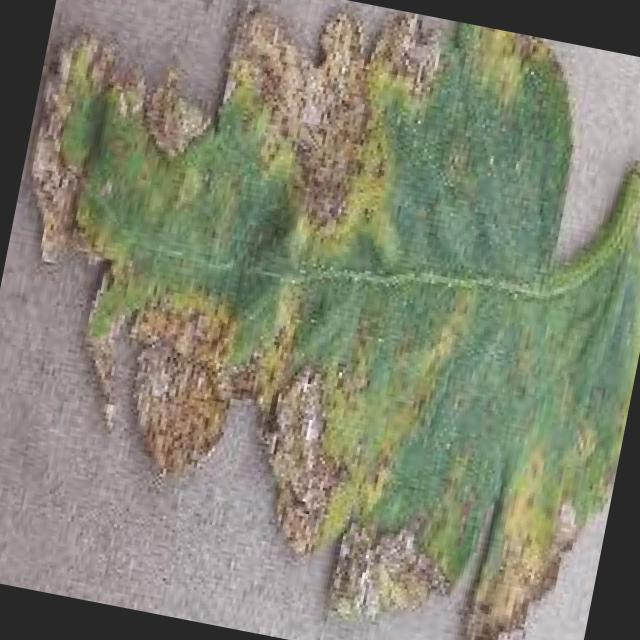bacterial spot: (28, 0, 640, 640)
